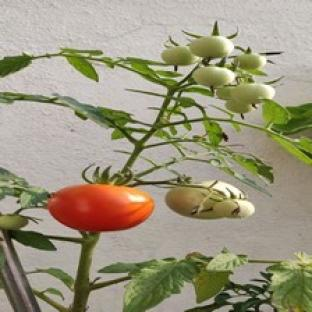Tomato: (48, 184, 154, 232), (165, 182, 245, 218), (232, 83, 275, 104), (190, 37, 233, 58), (193, 66, 235, 87), (214, 200, 254, 218), (162, 46, 199, 65), (237, 53, 266, 69), (0, 215, 29, 229), (225, 101, 253, 114), (216, 87, 233, 100)
